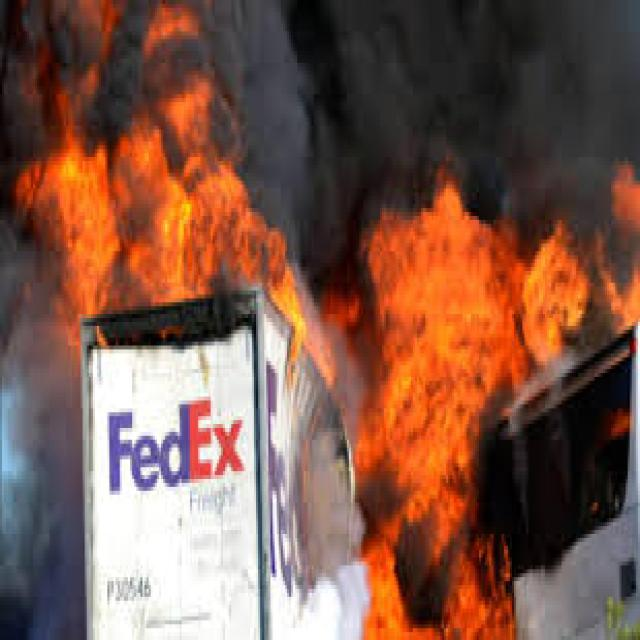Fire: (336, 188, 634, 640), (35, 18, 298, 390)
Smoke: (336, 5, 620, 142)
